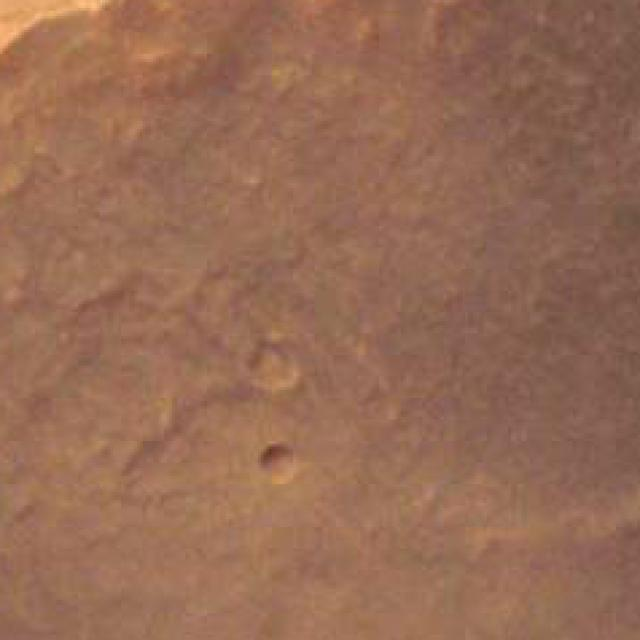Crater: (0, 0, 470, 212)
